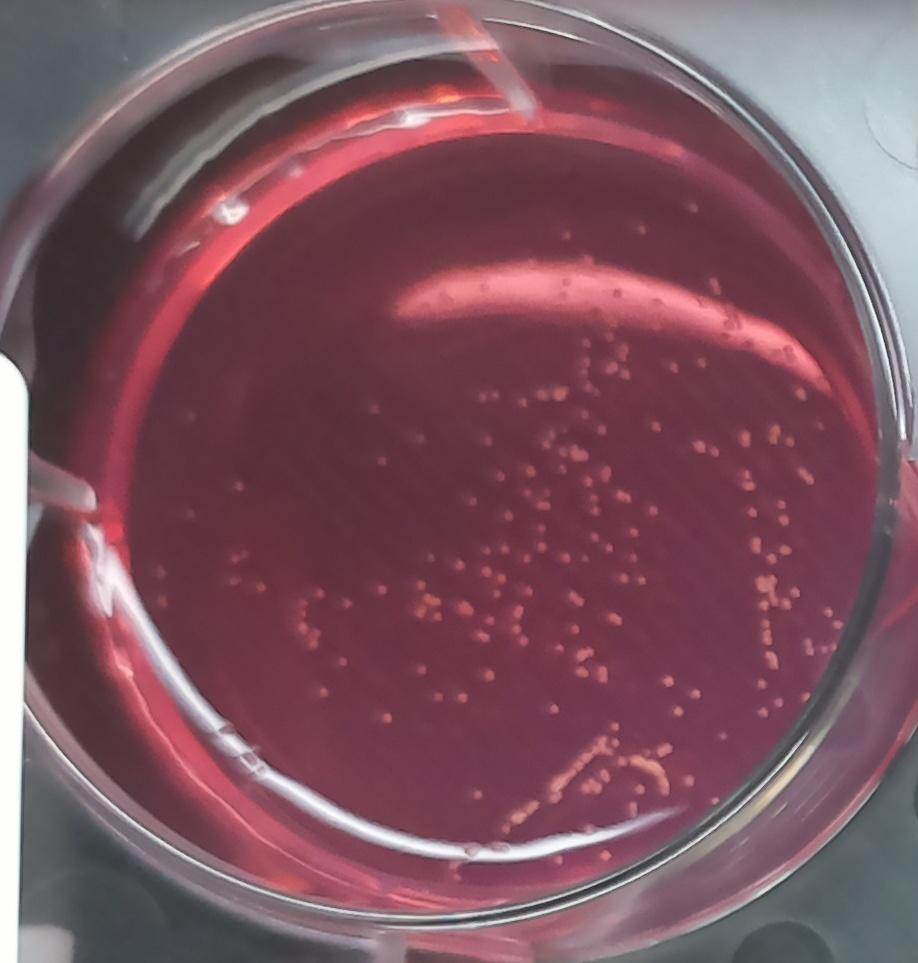mluteus: (544, 720, 624, 806), (622, 751, 677, 802), (752, 568, 800, 615), (410, 578, 448, 629), (502, 796, 548, 838), (600, 339, 640, 381), (690, 434, 723, 462), (608, 481, 638, 509), (762, 417, 786, 448), (793, 460, 818, 489), (820, 604, 844, 633), (452, 592, 476, 621), (591, 662, 614, 690), (774, 496, 794, 528), (741, 465, 760, 494), (758, 616, 773, 647), (368, 577, 388, 600), (798, 635, 817, 657), (466, 783, 484, 804), (742, 505, 765, 521), (509, 602, 524, 625), (500, 506, 516, 523)
